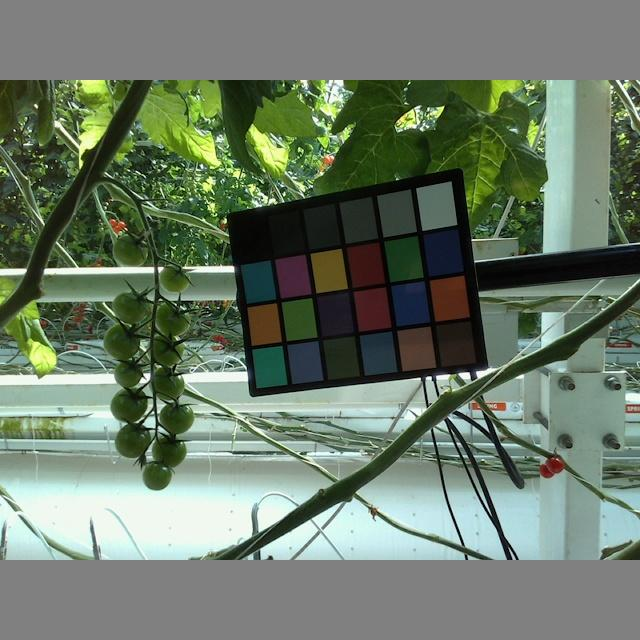green: (102, 322, 141, 361), (149, 365, 186, 402), (114, 422, 152, 458), (151, 305, 193, 337), (111, 229, 149, 264), (112, 387, 148, 422), (112, 290, 149, 323), (152, 436, 186, 468), (159, 402, 194, 433), (148, 336, 183, 365), (158, 262, 189, 292), (143, 458, 170, 491), (115, 359, 146, 387)
